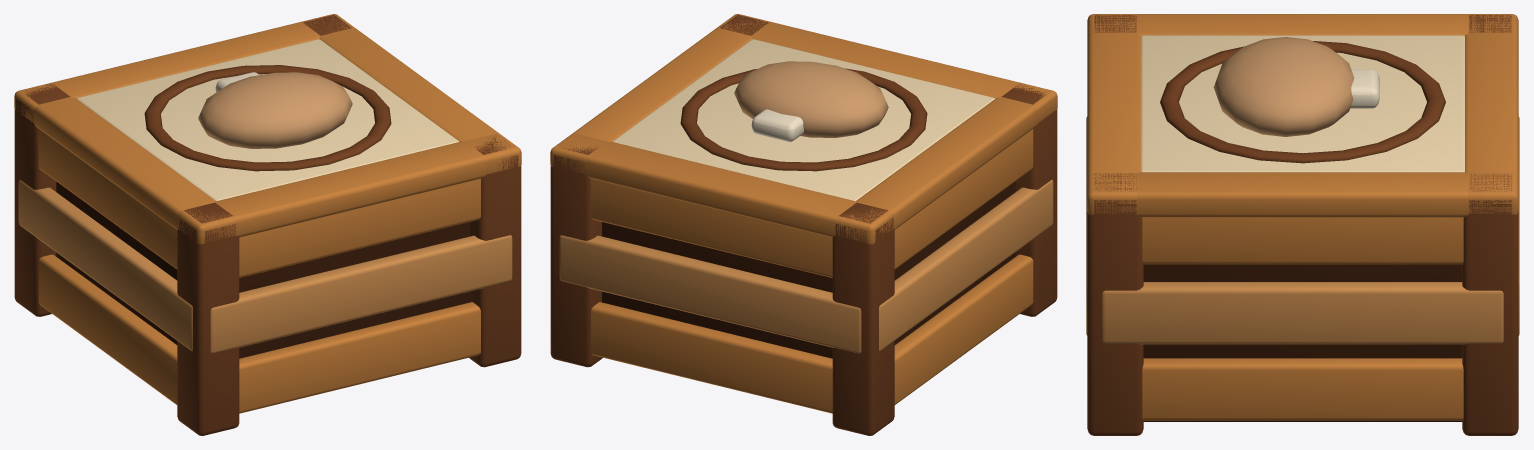
The model's file is crate_mushrooms.gltf.
3 views of the same model, side by side, from view 1: azimuth 30°, elevation 25°; view 2: azimuth 150°, elevation 25°; view 3: azimuth 270°, elevation 25° (orthographic). The views are drawn at different scales.
Visible parts, largest first — view 1: CrateShadowCore; view 2: CrateShadowCore; view 3: CrateShadowCore.
Boxes of the visible parts, left/top/right/bottom form: CrateShadowCore: left=14, top=14, right=521, bottom=435; CrateShadowCore: left=550, top=14, right=1057, bottom=435; CrateShadowCore: left=1086, top=14, right=1519, bottom=435.
Bounding box in the file's own units: 1.01 × 0.7448 × 1.01.
